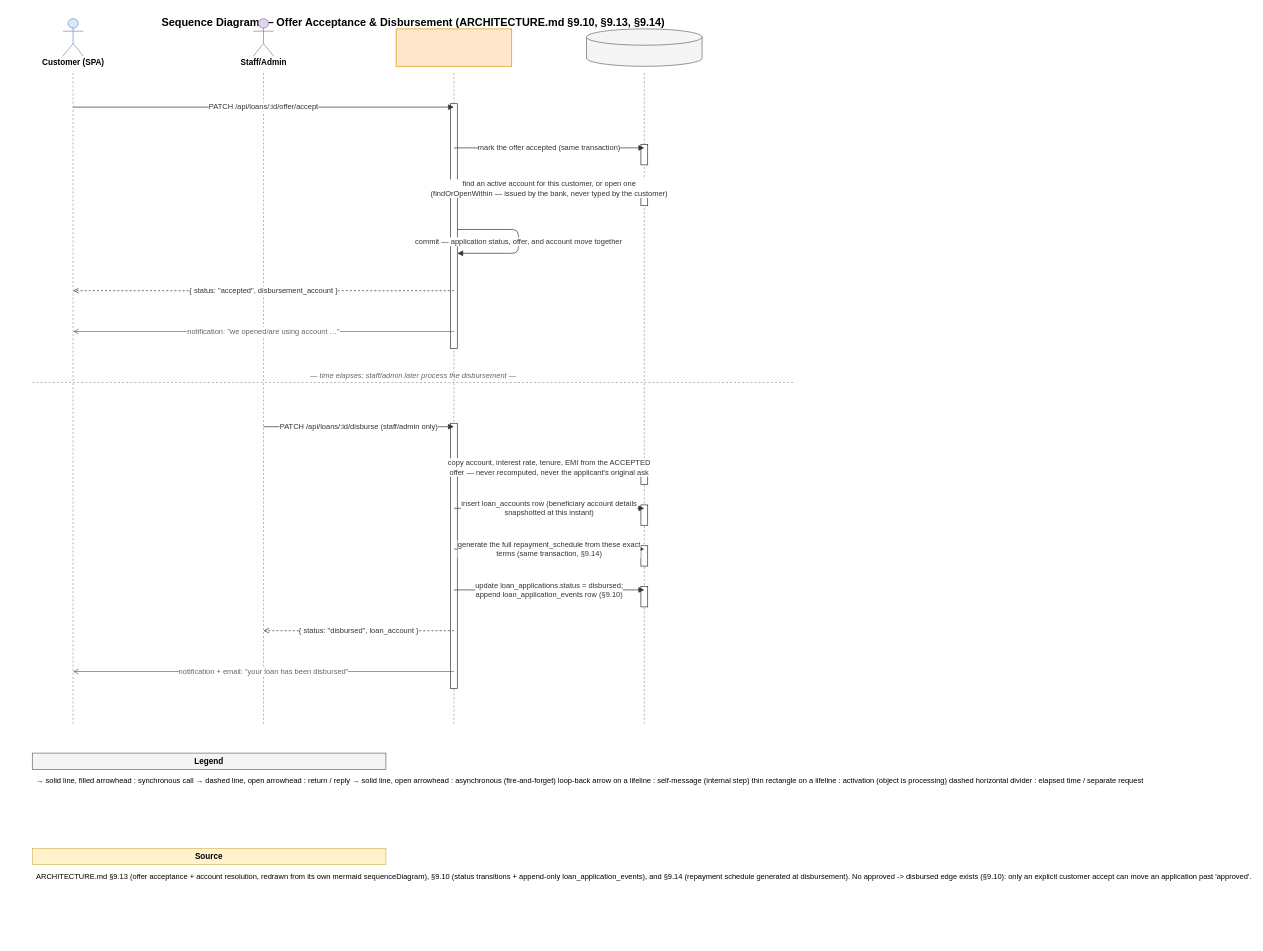
This 1263x951 diagram has some shape labels left out. The shapes that lost their labels are listed below. From the top down, each one's box as (x1, y1, x2, y2) in pixels, then its label:
(395, 28, 512, 66): API Gateway (Node)
(586, 28, 702, 66): MySQL
